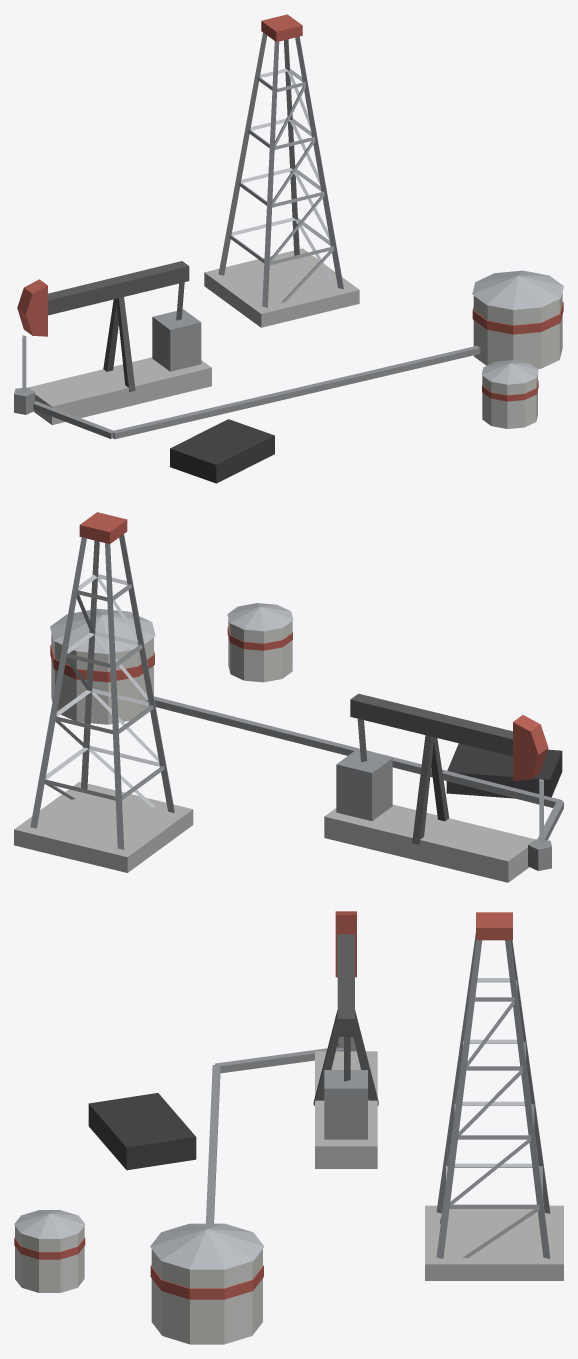
Rendered from oil-well.glb.
3 views of the same model, one above another, from view 1: azimuth 30°, elevation 25°; view 2: azimuth 150°, elevation 25°; view 3: azimuth 270°, elevation 25° (orthographic). The views are drawn at different scales.
Visible parts, largest first — view 1: LOD0; view 2: LOD0; view 3: LOD0.
Part boxes in pixels (x1,y1,x2,y2): LOD0: (14,14,563,483); LOD0: (14,512,563,882); LOD0: (14,911,563,1344).
Size of what is drawn, in the model's own units: 1.48 by 0.82 by 1.19.
